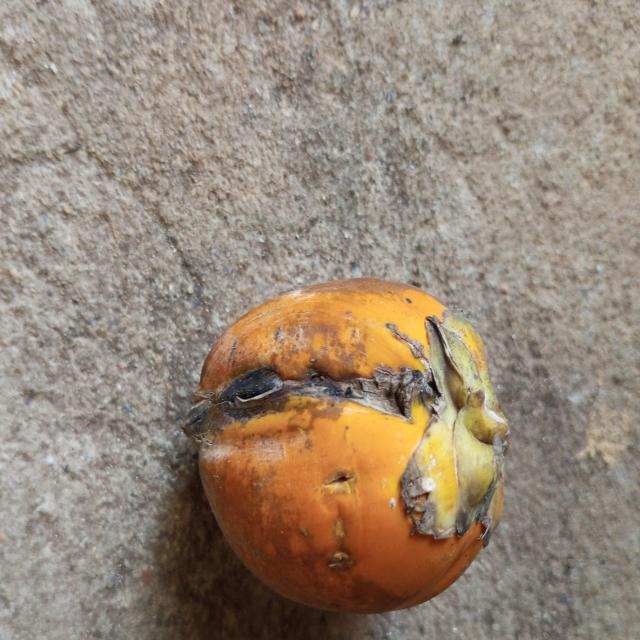damaged: (183, 279, 509, 617)
